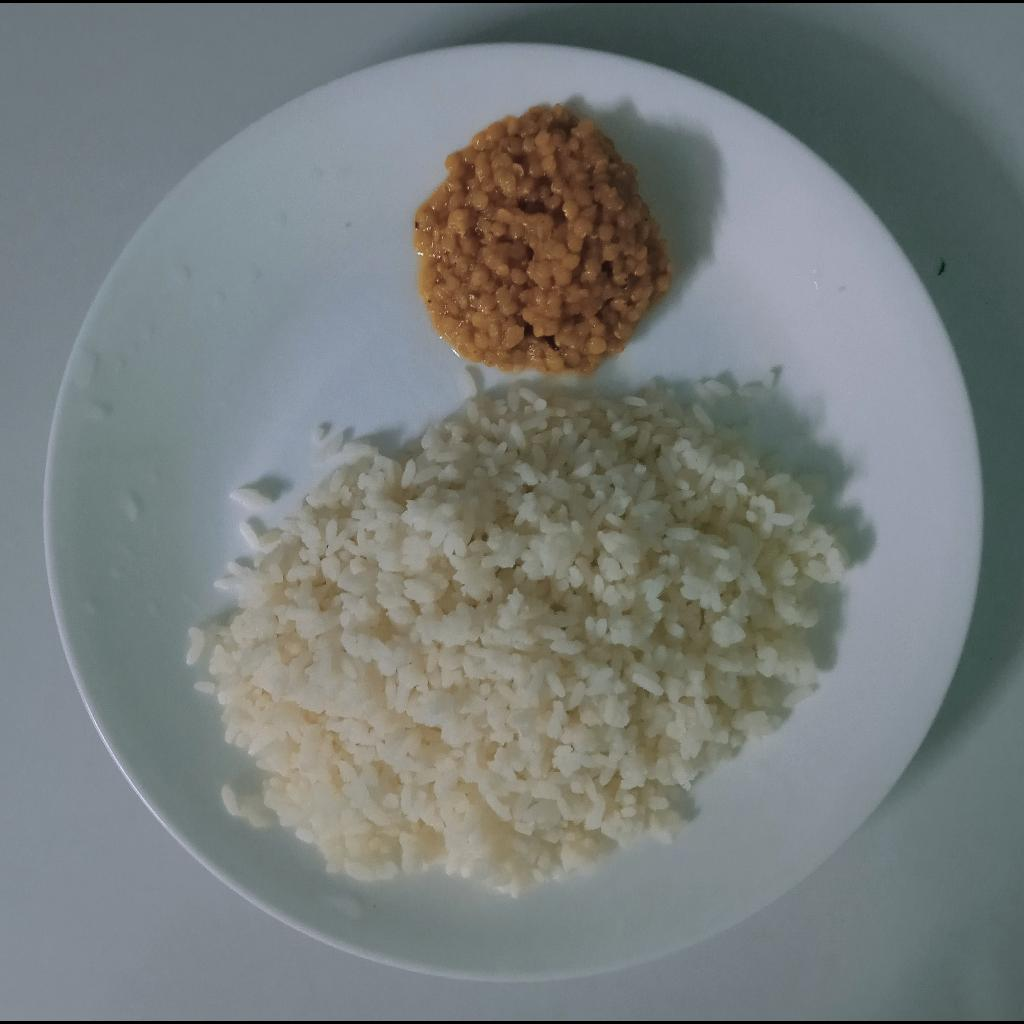daal: (412, 103, 673, 373)
rice: (197, 384, 847, 898)
